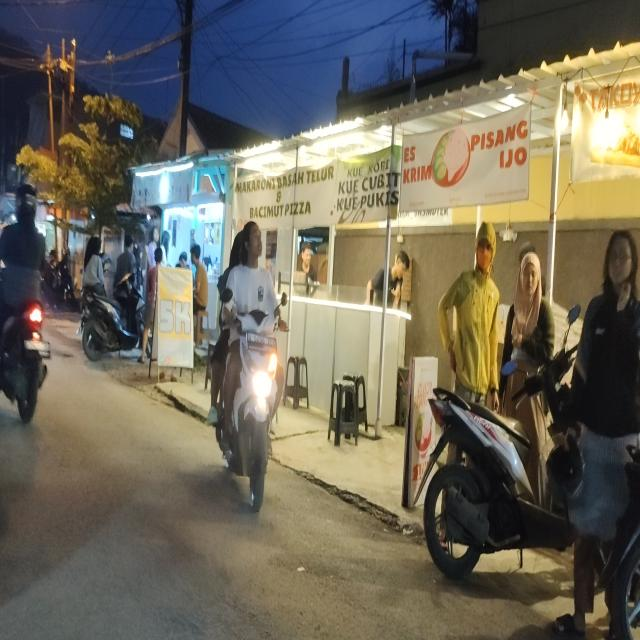helmet: (16, 187, 36, 224)
no-helmet: (244, 223, 263, 263), (230, 225, 247, 261)
